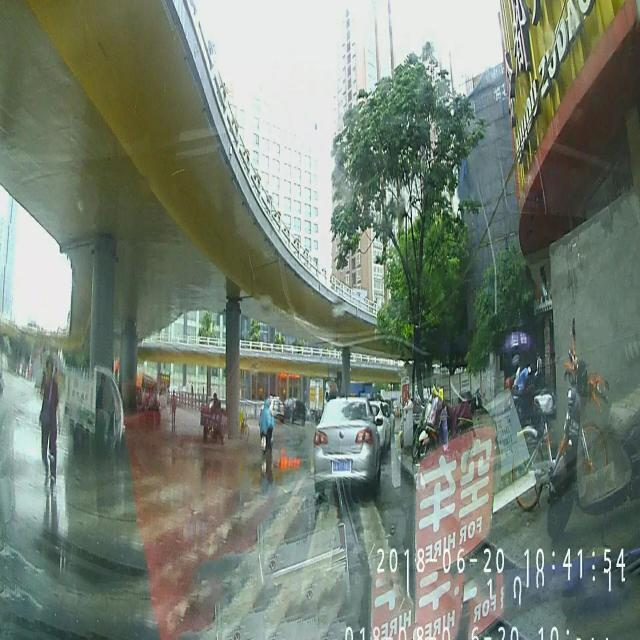car: (312, 394, 380, 494), (370, 399, 392, 452)
